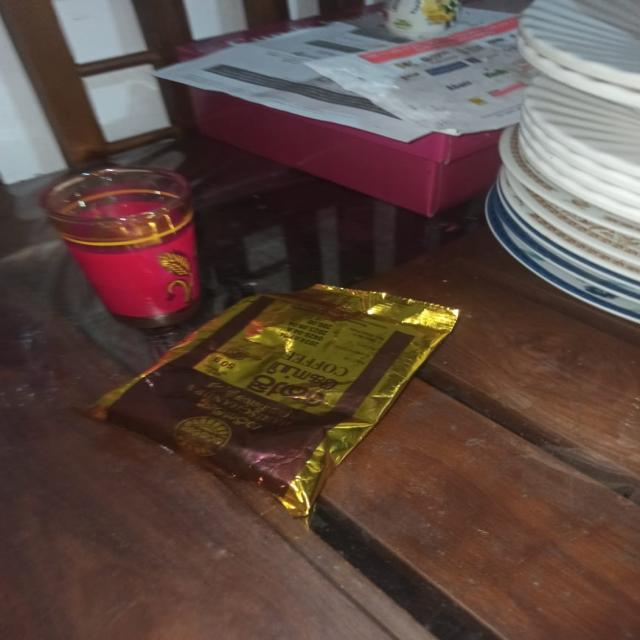Harischandra Coffee: (130, 262, 413, 529)
